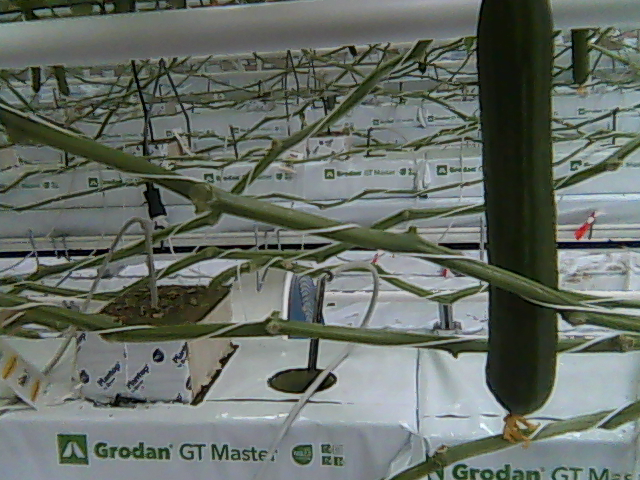concombre: (473, 1, 559, 440)
